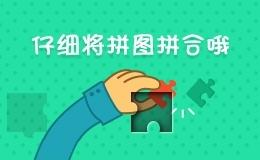target: (110, 72, 151, 112)
